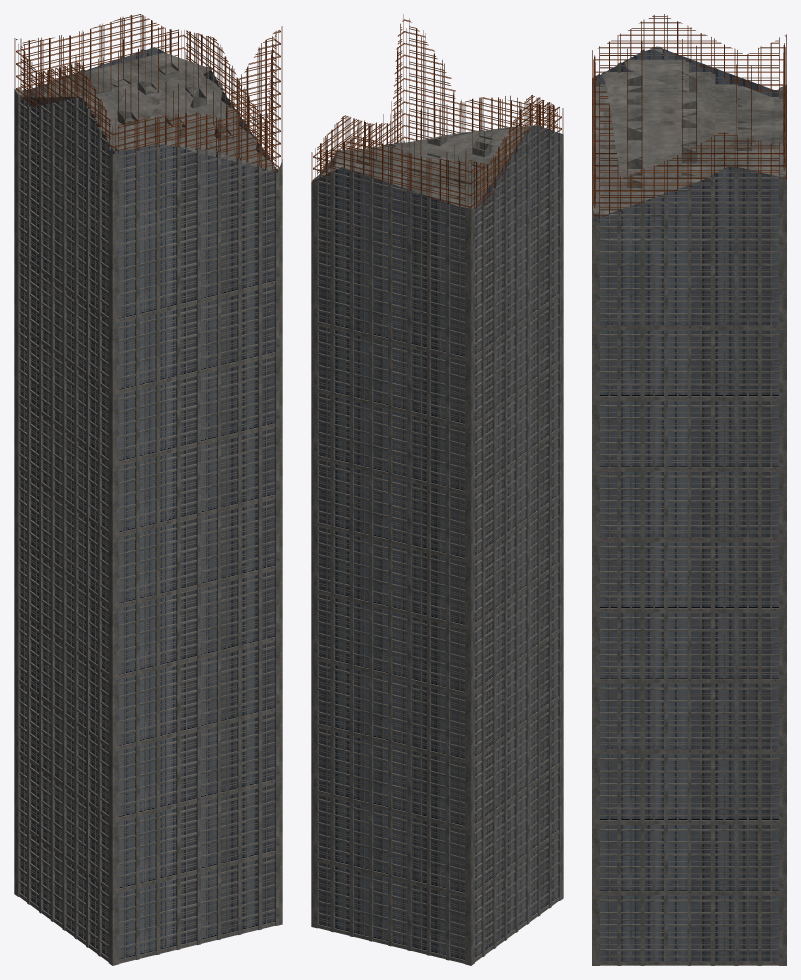
The model's file is building_05.glb.
The picture shows the model from 3 angles, left to right: view 1: azimuth 30°, elevation 25°; view 2: azimuth 150°, elevation 25°; view 3: azimuth 270°, elevation 25°; orthographic projection. The views are drawn at different scales.
Parts seen in each view (by area): view 1: Building 05; view 2: Building 05; view 3: Building 05.
Part boxes in pixels (<box>): Building 05: <box>14,14,282,965</box>; Building 05: <box>311,14,563,965</box>; Building 05: <box>592,14,786,965</box>.
Bounding box in the file's own units: 50 × 252 × 50.
Materials: 3 (3 with a texture image).
